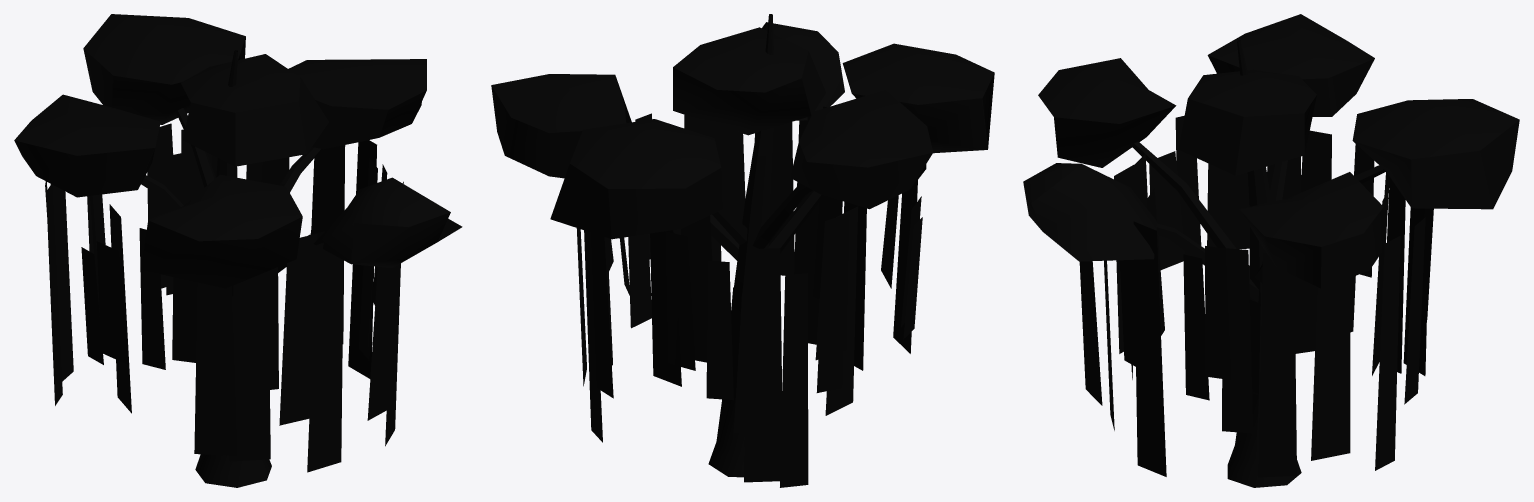
Rendered from SM_willow.fbx.
3 renders of one model, left to right at view 1: azimuth 30°, elevation 25°; view 2: azimuth 150°, elevation 25°; view 3: azimuth 270°, elevation 25°, orthographic. The views are drawn at different scales.
Visible parts, largest first — view 1: willow_crown, willow; view 2: willow_crown, willow; view 3: willow_crown, willow.
Boxes of the visible parts, x1,y1,x2,y2 form: willow_crown: (14, 14, 462, 472); willow: (195, 306, 271, 487); willow_crown: (491, 14, 994, 487); willow: (708, 287, 747, 477); willow_crown: (1023, 14, 1519, 477); willow: (1227, 303, 1301, 487).
Size of the model in its own units: 7.28 by 7.11 by 7.49.
